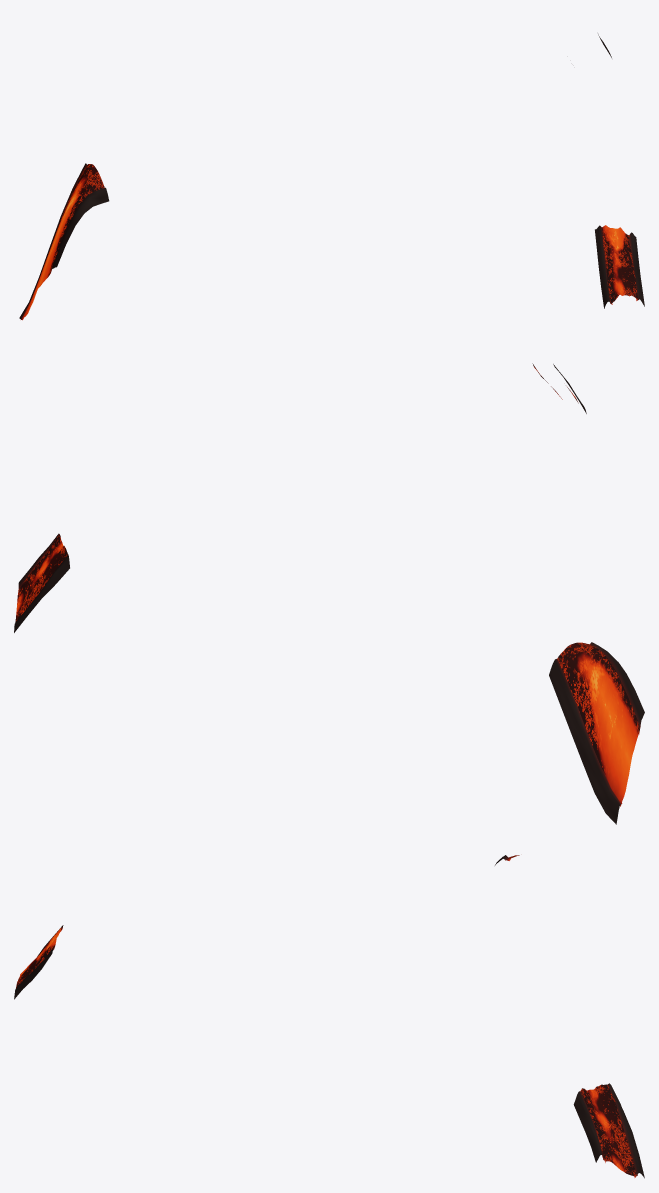
Rendered from lava_seg_5.glb.
3 renders of one model, top to bottom at view 1: azimuth 30°, elevation 25°; view 2: azimuth 150°, elevation 25°; view 3: azimuth 270°, elevation 25°, orthographic. The views are drawn at different scales.
Parts seen in each view (by area): view 1: seg; view 2: seg; view 3: seg.
Boxes of the visible parts, box(x1,y1,x2,y2) form: seg: box(19, 34, 644, 320); seg: box(14, 363, 644, 824); seg: box(14, 855, 644, 1178).
Bounding box in the file's own units: 75.07 × 25.33 × 68.8.
